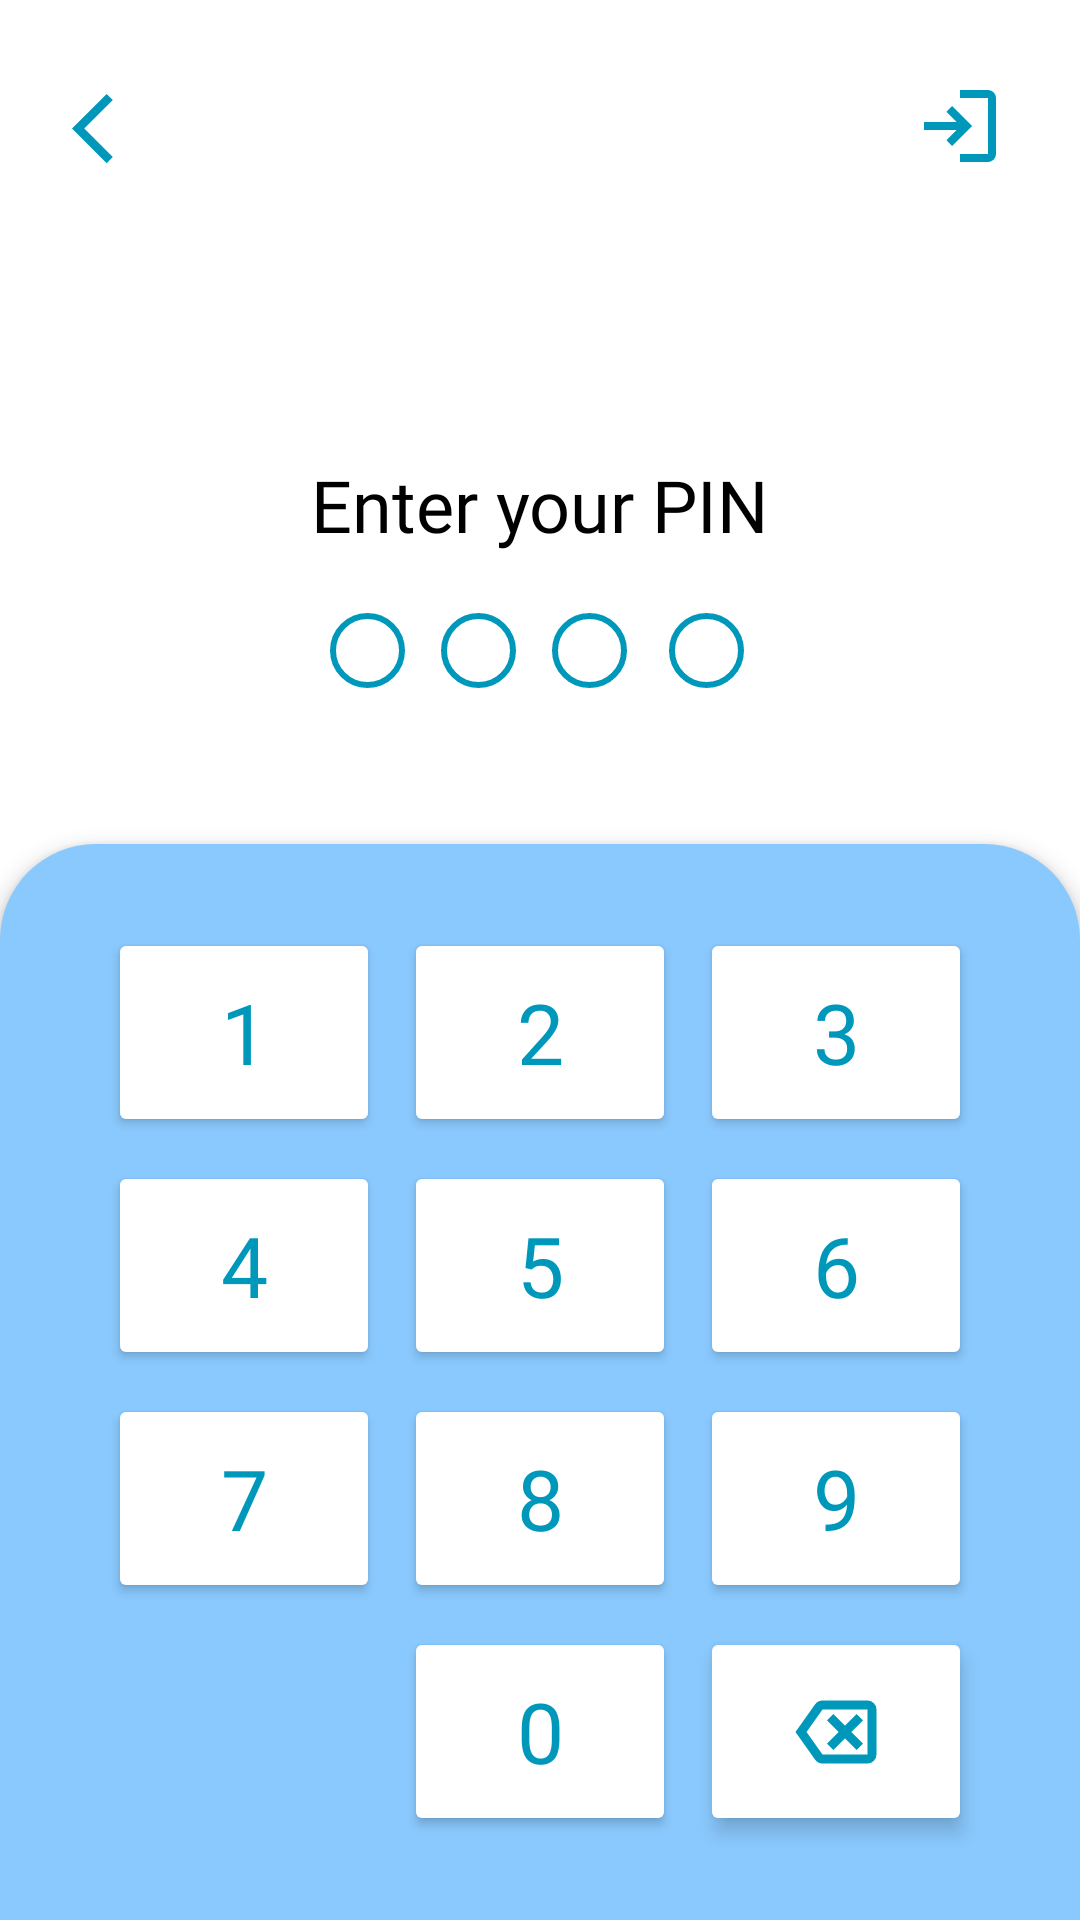

Named icons in this screenshot (1080w x 1920h) and their centers, point (x, y):
backspace: point (837, 1737)
Press to back: point (92, 128)
Press to go to login page: point (960, 126)
